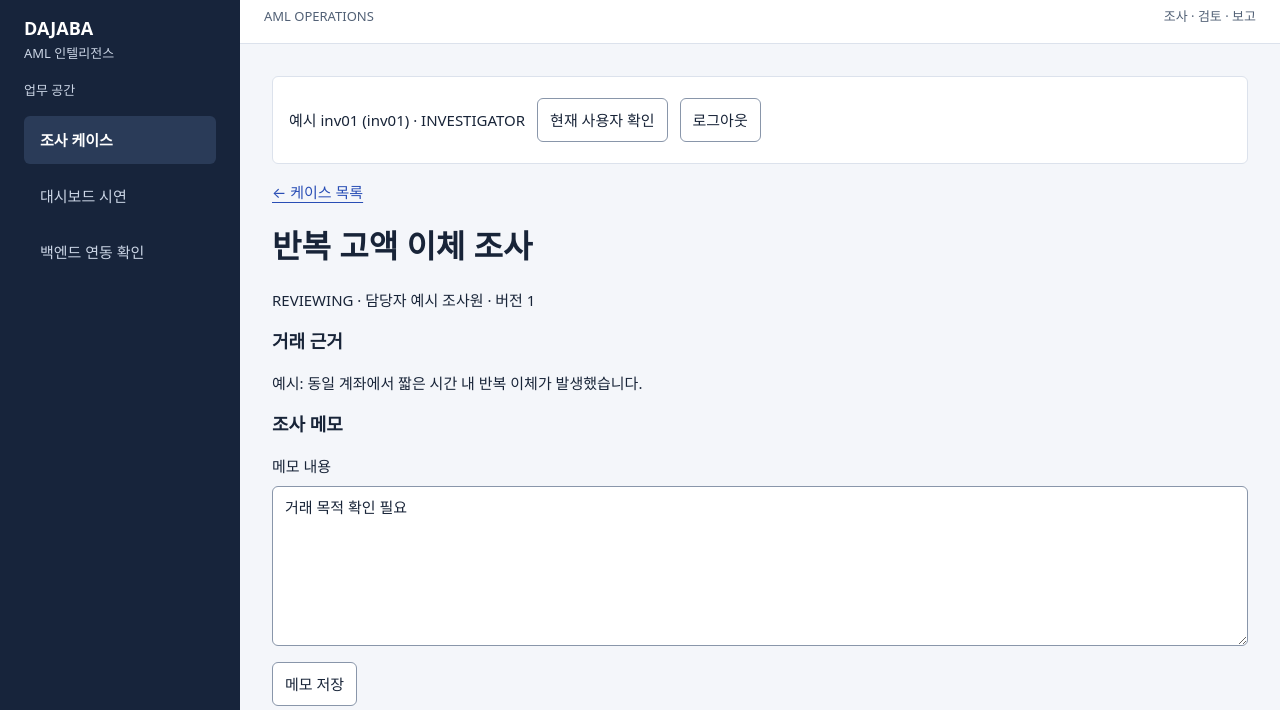
Test: 케이스 조사 › 저장 충돌 시 입력을 보존하며 최신 내용을 확인한 후 재저장한다
The width and height of the screenshot is (1280, 710).
Replace the text in the text box labelled "메모 내용" with "내가 작성 중인 메모". click: (760,566)
box: 272,486 -> 1248,646
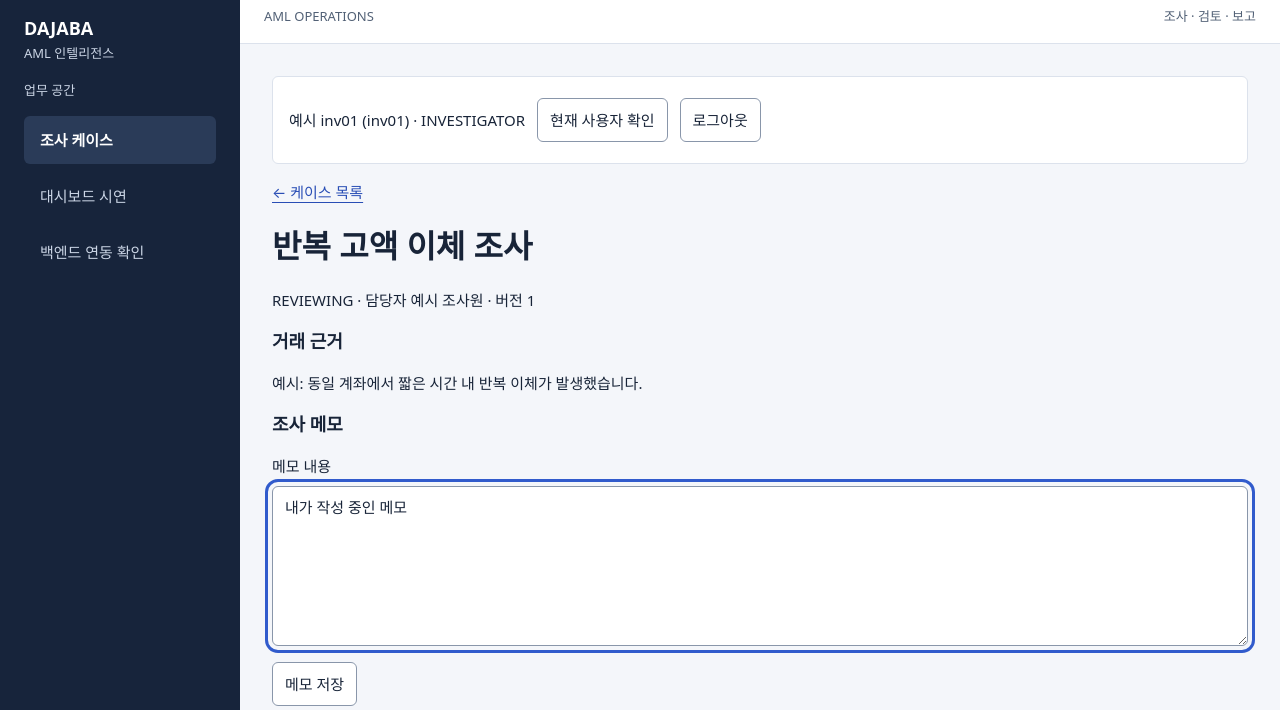
Click the button "메모 저장". click: (315,684)
box: 272,662 -> 357,706
(page scrolled)
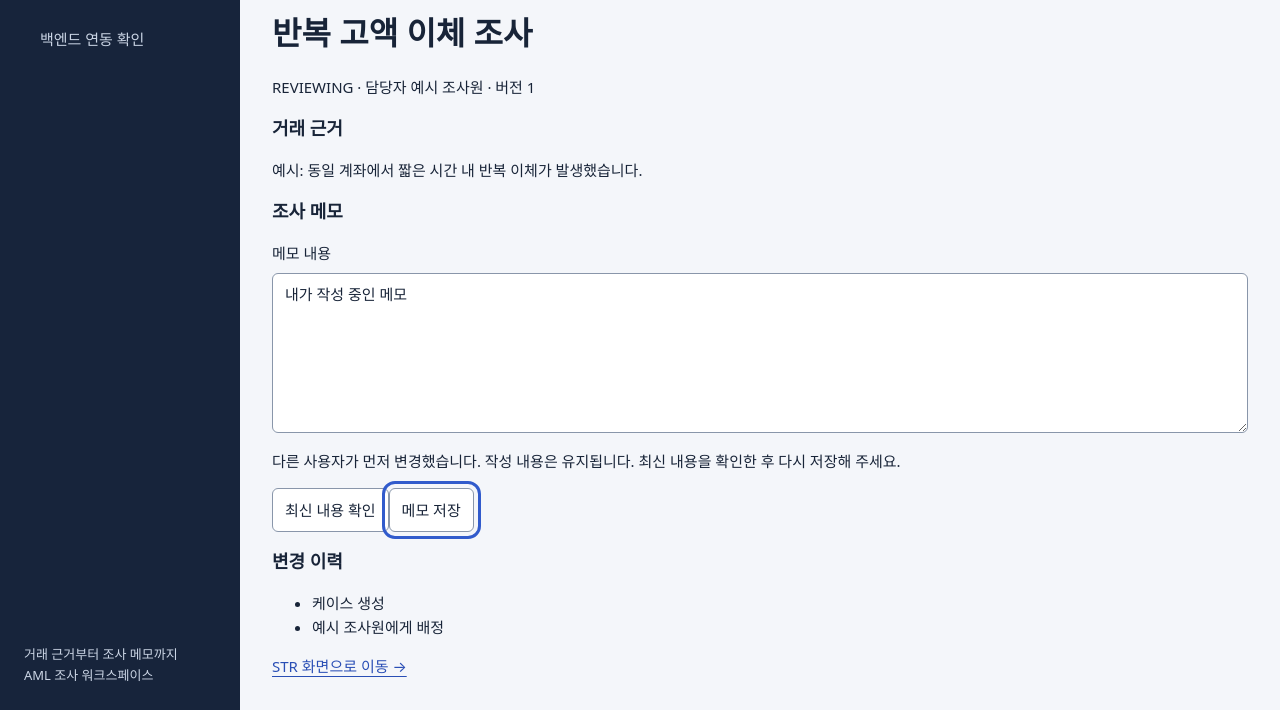
Expected: the message shows "다른 사용자가 먼저 변경", 272,451 -> 901,471
Click the button "최신 내용 확인". click: (330,510)
box: 272,488 -> 389,532
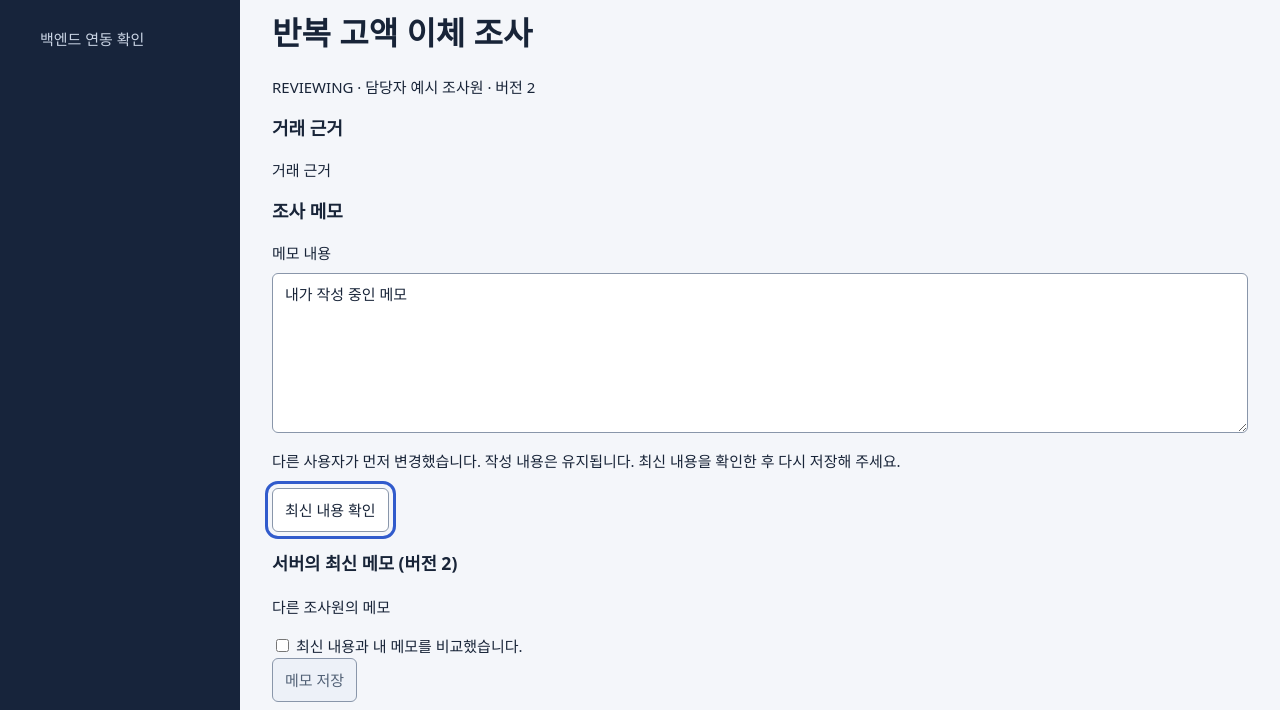
Expected: the text "다른 조사원의 메모" is shown, 272,597 -> 390,617
Expected: the button "메모 저장" is disabled, 272,658 -> 357,702
Click the checkbox. click: (282,646)
box: 276,639 -> 289,652
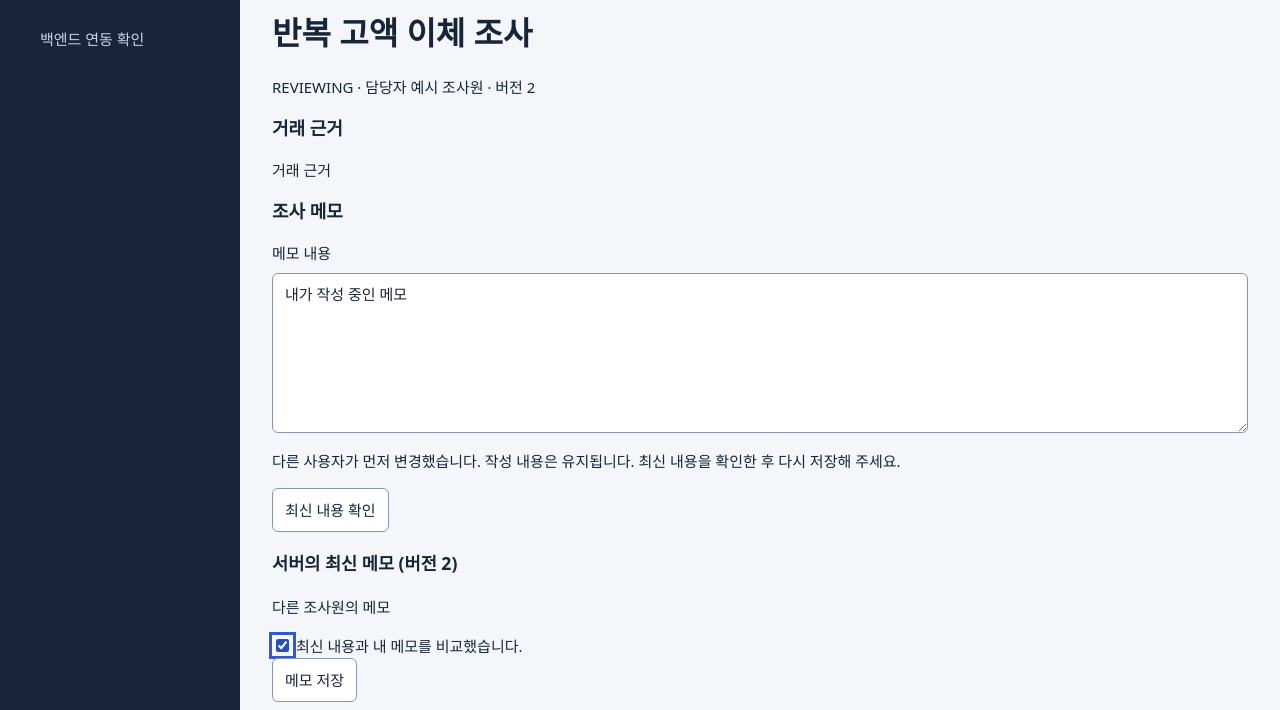
Click the button "메모 저장". click: (315,680)
box: 272,658 -> 357,702
(page scrolled)
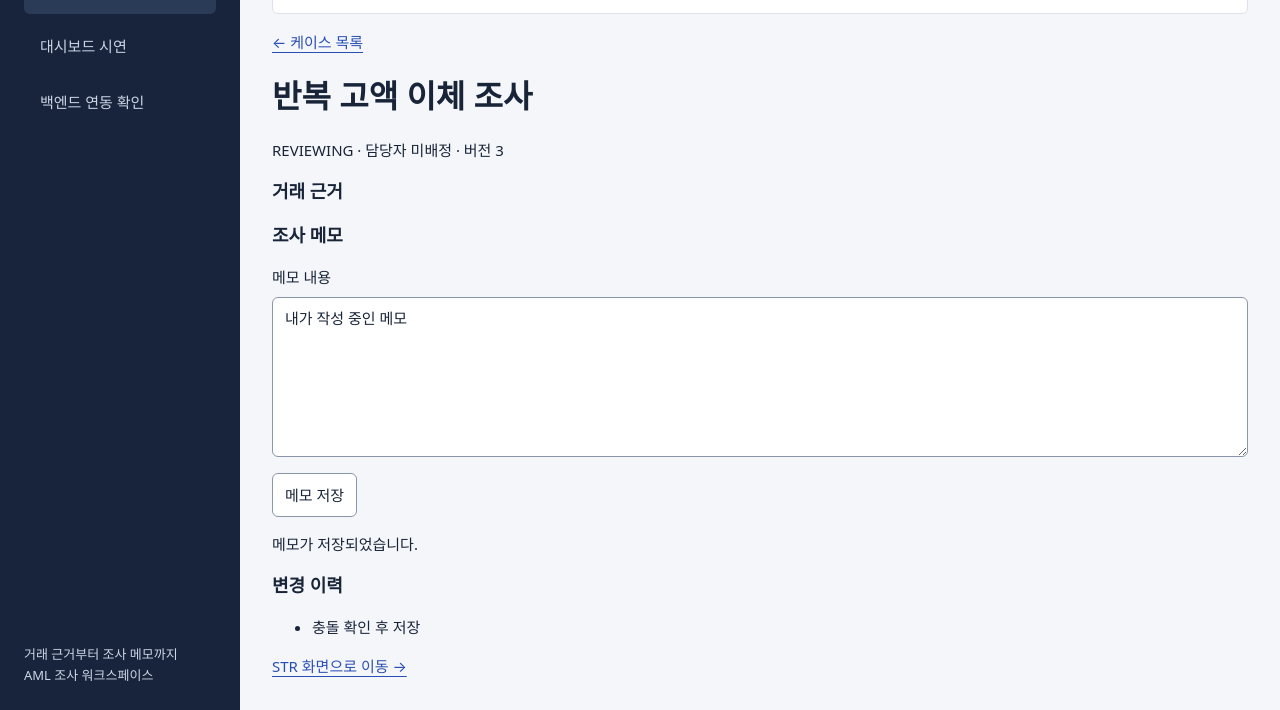
Expected: the text "메모가 저장되었습니다." is shown, 272,534 -> 418,554
